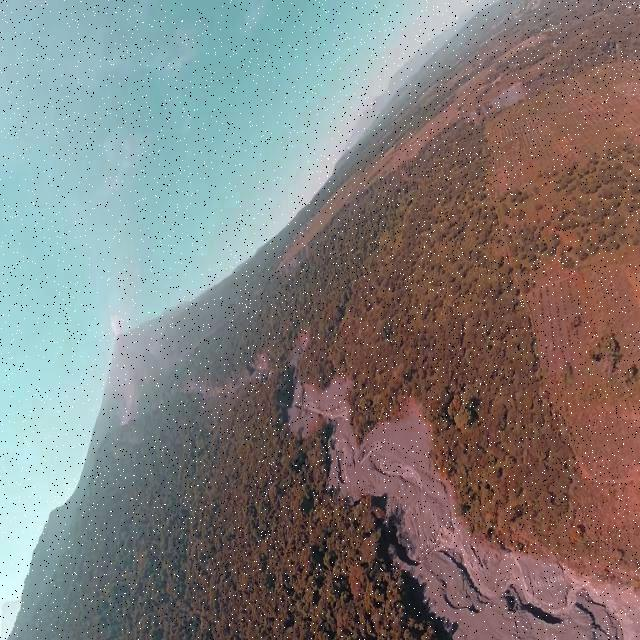Plume: (110, 311, 124, 335)
Summit: (109, 329, 129, 345)
